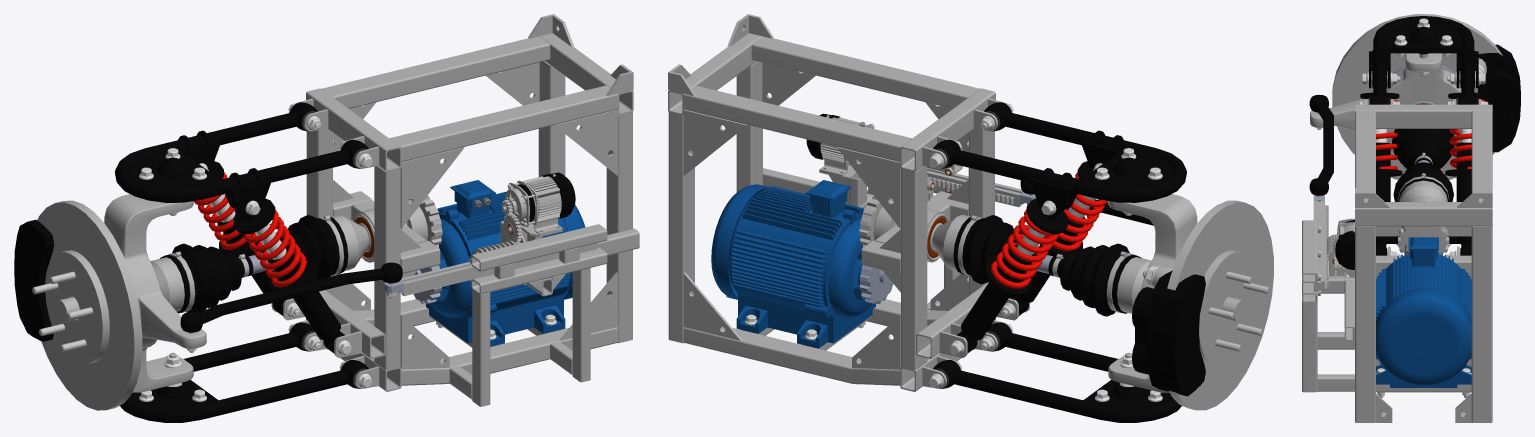
Rendered from modular_suspension.glb.
The picture shows the model from 3 angles, left to right: view 1: azimuth 30°, elevation 25°; view 2: azimuth 150°, elevation 25°; view 3: azimuth 270°, elevation 25°; orthographic projection. The views are drawn at different scales.
Visible parts, largest first — view 1: modullar_suspension; view 2: modullar_suspension; view 3: modullar_suspension.
Boxes of the visible parts, x1,y1,x2,y2 form: modullar_suspension: [14, 14, 639, 422]; modullar_suspension: [668, 14, 1273, 422]; modullar_suspension: [1302, 14, 1520, 422].
Size of the model in its own units: 1.03 by 0.4922 by 0.4194.
